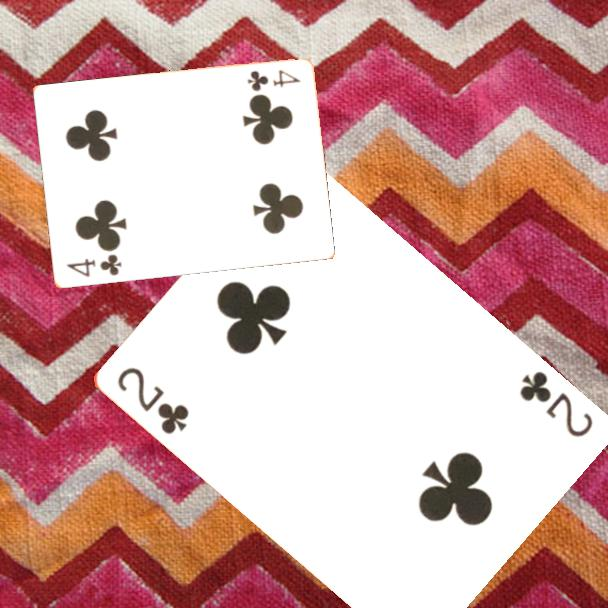c02: (113, 363, 192, 438), (515, 367, 595, 441)
c04: (63, 251, 124, 280), (243, 67, 303, 94)
